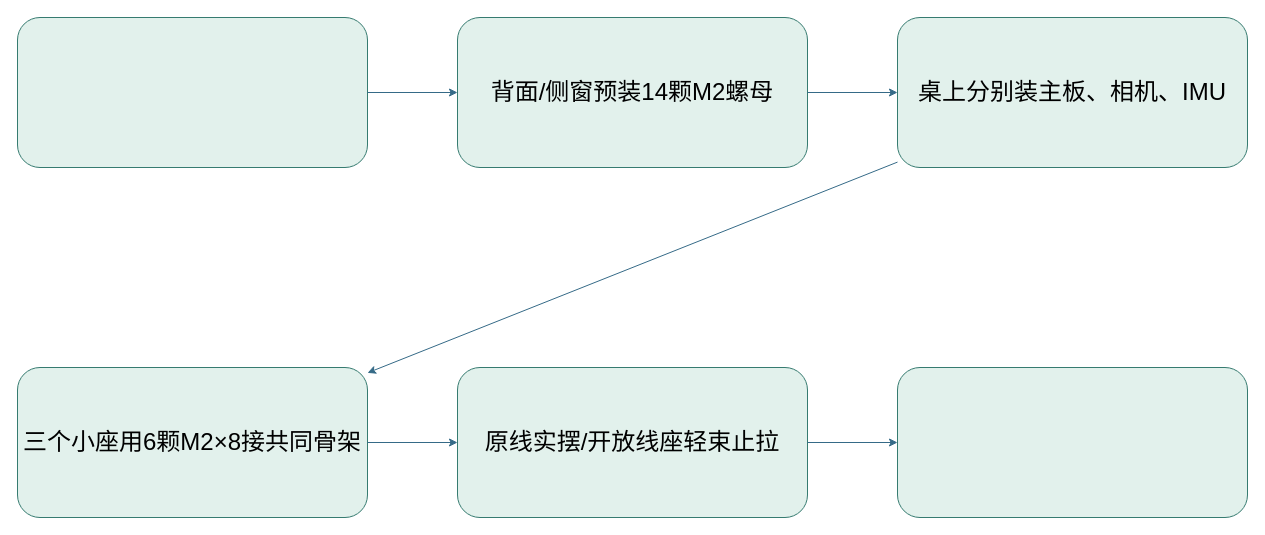
The diagram is 1265 pixels wide and 535 high, and some of its shapes have lost their labels. Here are the shapes that lost their labels. From the top down, the centre of each, then its label:
At pixel 192 92: "先认六件/清局部支撑".
At pixel 1072 442: "装回旧外圈，前后盖最后合".
